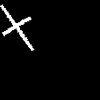single_crochet: (0, 5, 33, 49)
